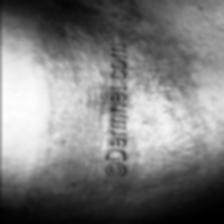Non-Cancerous Skin Condition: (128, 54, 210, 186)
